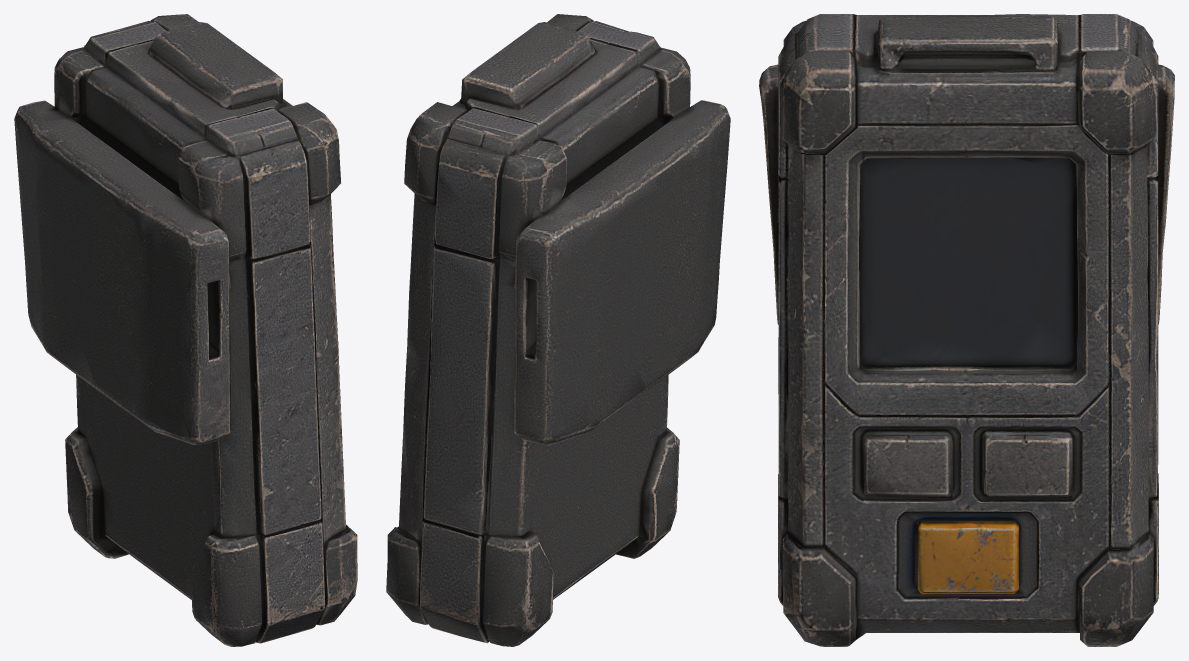
Rendered from PROP-TERMINAL-HANDHELD.glb.
The picture shows the model from 3 angles, left to right: view 1: azimuth 30°, elevation 25°; view 2: azimuth 150°, elevation 25°; view 3: azimuth 270°, elevation 25°; orthographic projection. The views are drawn at different scales.
Parts seen in each view (by area): view 1: tripo_node_f8f981a5-3714-4010-a0d8-c263a49b46ba; view 2: tripo_node_f8f981a5-3714-4010-a0d8-c263a49b46ba; view 3: tripo_node_f8f981a5-3714-4010-a0d8-c263a49b46ba.
Part boxes in pixels (x1,y1,x2,y2): tripo_node_f8f981a5-3714-4010-a0d8-c263a49b46ba: [14, 14, 357, 646]; tripo_node_f8f981a5-3714-4010-a0d8-c263a49b46ba: [386, 14, 730, 646]; tripo_node_f8f981a5-3714-4010-a0d8-c263a49b46ba: [759, 14, 1174, 646].
Bounding box in the file's own units: 0.3914 × 1 × 0.6304.
Materials: 1 (1 with a texture image).
